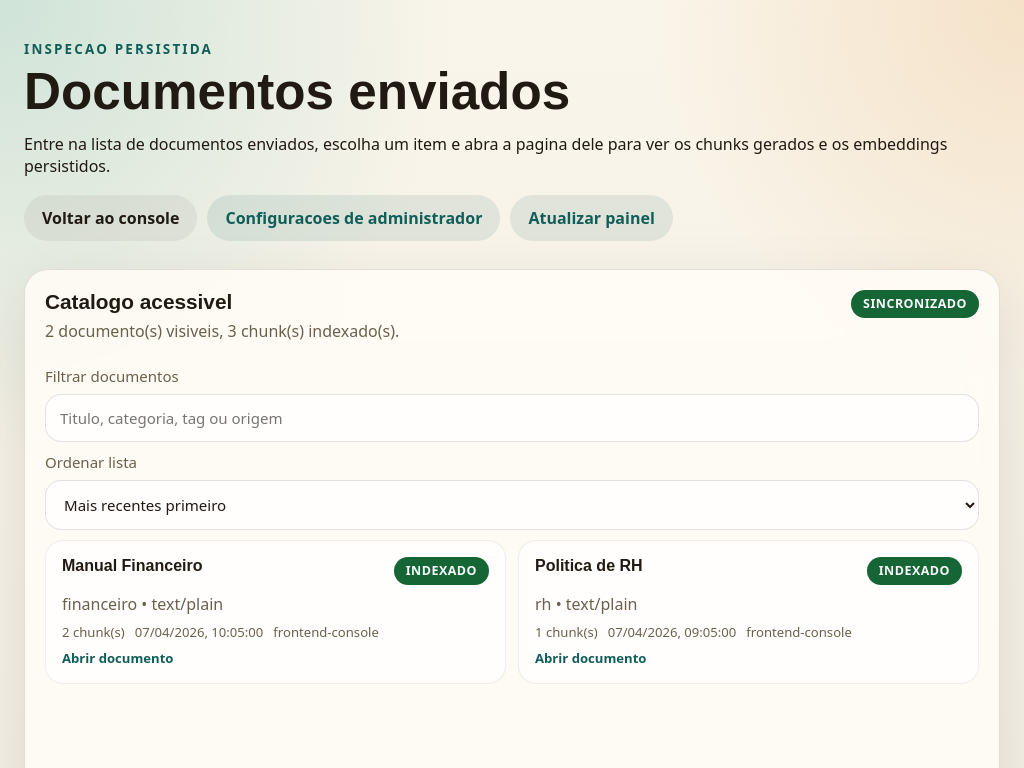
DocumentInspectorConsole › filtra a lista de documentos pelo texto informado
In the field labelled "Filtrar documentos": (512, 418) [45,394,979,442], type "rh"
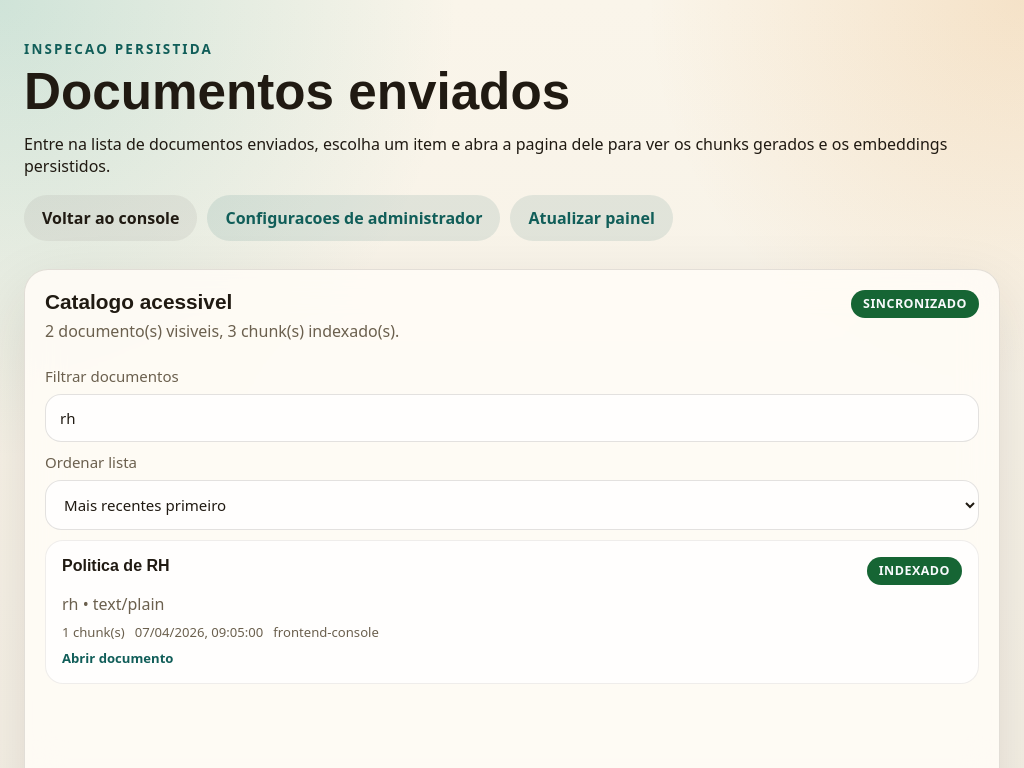
Expected: the link "Politica de RH" is shown, [45,540,979,684]
Result: the link "Manual Financeiro" is gone
